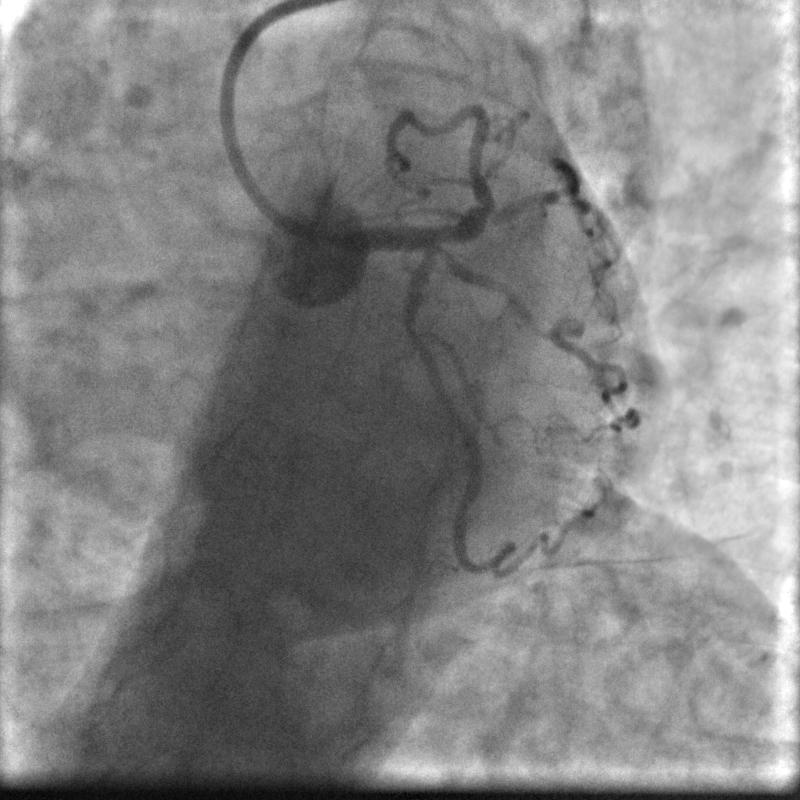Stenosis: (401, 316, 430, 355)
